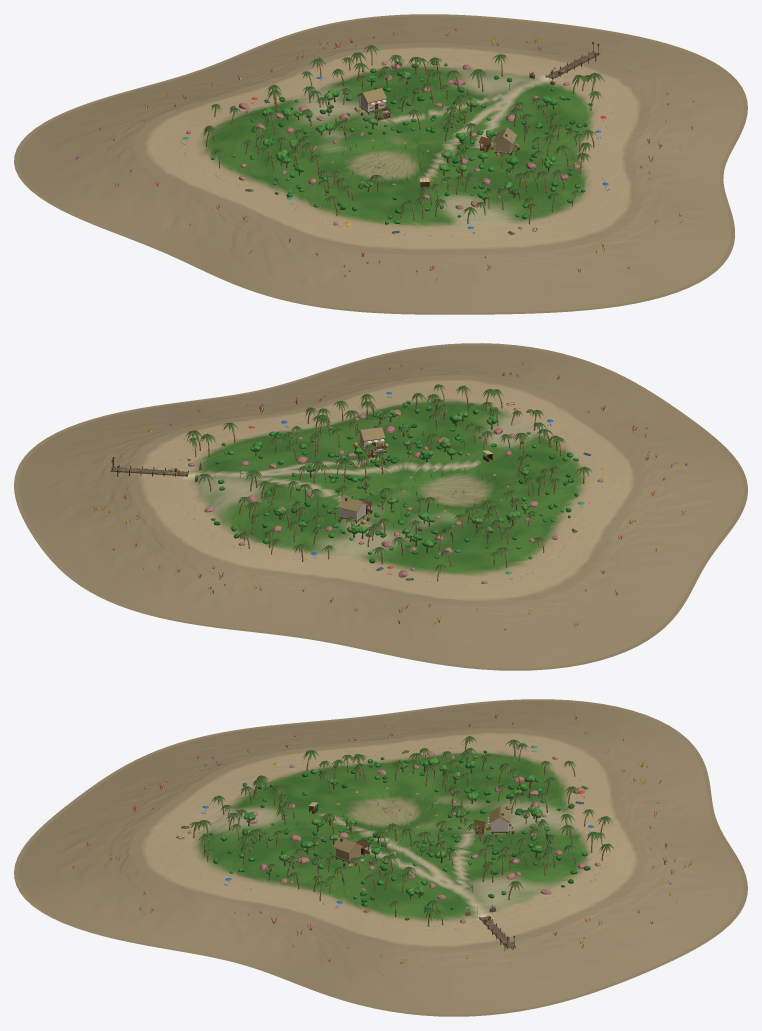
File: atoll.glb
3 renders of one model, top to bottom at view 1: azimuth 30°, elevation 25°; view 2: azimuth 150°, elevation 25°; view 3: azimuth 270°, elevation 25°, orthographic. The views are drawn at different scales.
Visible parts, largest first — view 1: atoll; view 2: atoll; view 3: atoll.
Part boxes in pixels (bbox=[...]): atoll: bbox=[14, 14, 747, 314]; atoll: bbox=[14, 343, 747, 670]; atoll: bbox=[14, 699, 747, 1016].
Bounding box in the file's own units: 274 × 17.45 × 268.
